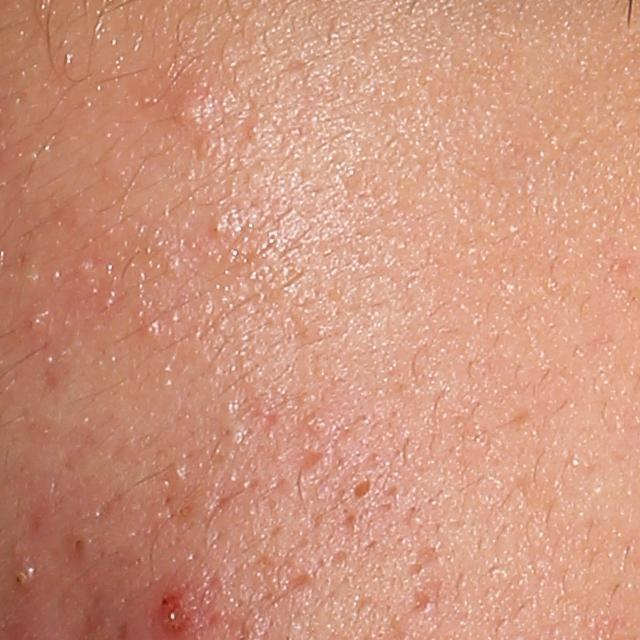atrophic_scar: (413, 587, 431, 614)
comedo: (207, 200, 252, 247), (169, 93, 213, 130), (61, 526, 98, 568), (344, 472, 380, 508), (9, 561, 42, 594), (27, 312, 43, 331)
